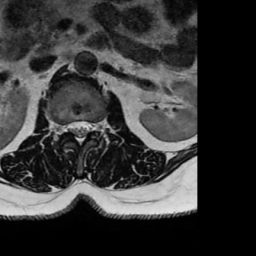CCS_normal: (76, 115, 83, 150)
LFS_normal: (91, 116, 99, 137)
LLS_normal: (83, 115, 90, 138)
RFS_normal: (60, 116, 69, 140)
RLS_normal: (69, 115, 76, 139)
